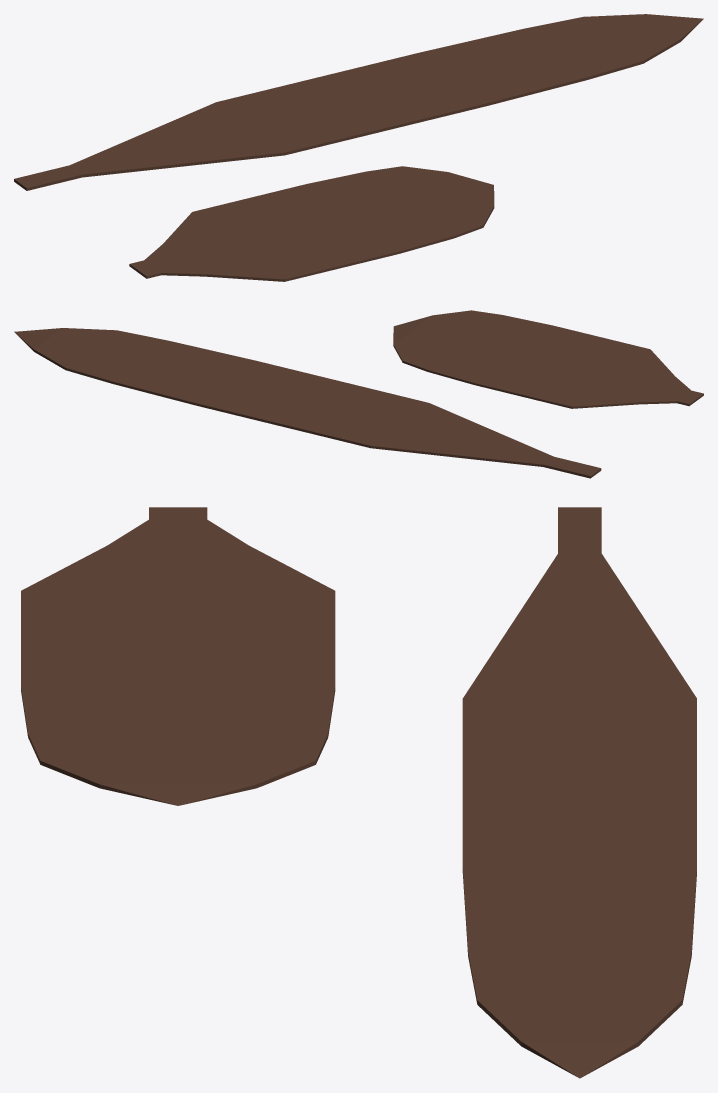
Rendered from feather_test.fbx.
3 views of the same model, one above another, from view 1: azimuth 30°, elevation 25°; view 2: azimuth 150°, elevation 25°; view 3: azimuth 270°, elevation 25° (orthographic). The views are drawn at different scales.
Parts seen in each view (by area): view 1: Cube, Cube.007; view 2: Cube, Cube.007; view 3: Cube, Cube.007.
Part boxes in pixels (<box>): Cube: <box>14,14,703,190</box>; Cube.007: <box>129,166,494,281</box>; Cube: <box>14,328,601,478</box>; Cube.007: <box>393,310,703,408</box>; Cube: <box>462,507,696,1078</box>; Cube.007: <box>21,507,335,805</box>.
Bounding box in the file's own units: 337 × 1.33 × 169.
